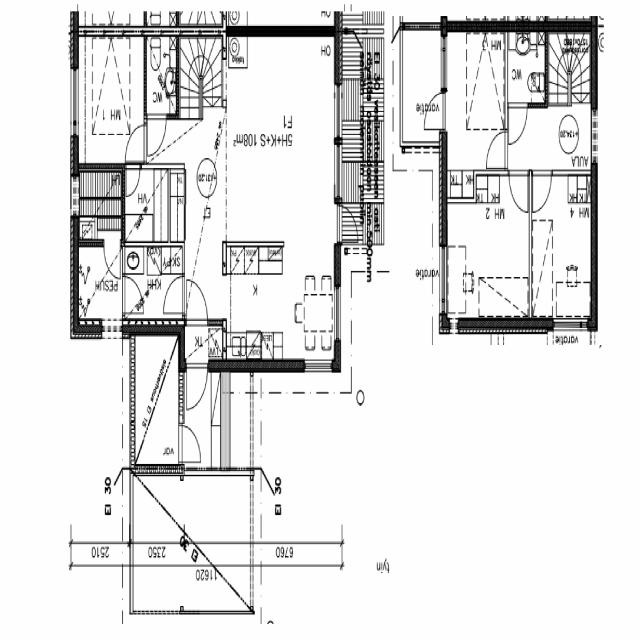door: (186, 360, 208, 413), (186, 279, 208, 327), (421, 93, 447, 130), (334, 205, 359, 242), (179, 424, 202, 460), (122, 276, 144, 313), (125, 124, 147, 160), (164, 276, 185, 312), (148, 113, 166, 155), (486, 132, 507, 168), (534, 171, 552, 212), (509, 103, 527, 144), (509, 171, 527, 211), (104, 238, 120, 276), (126, 162, 140, 196)
